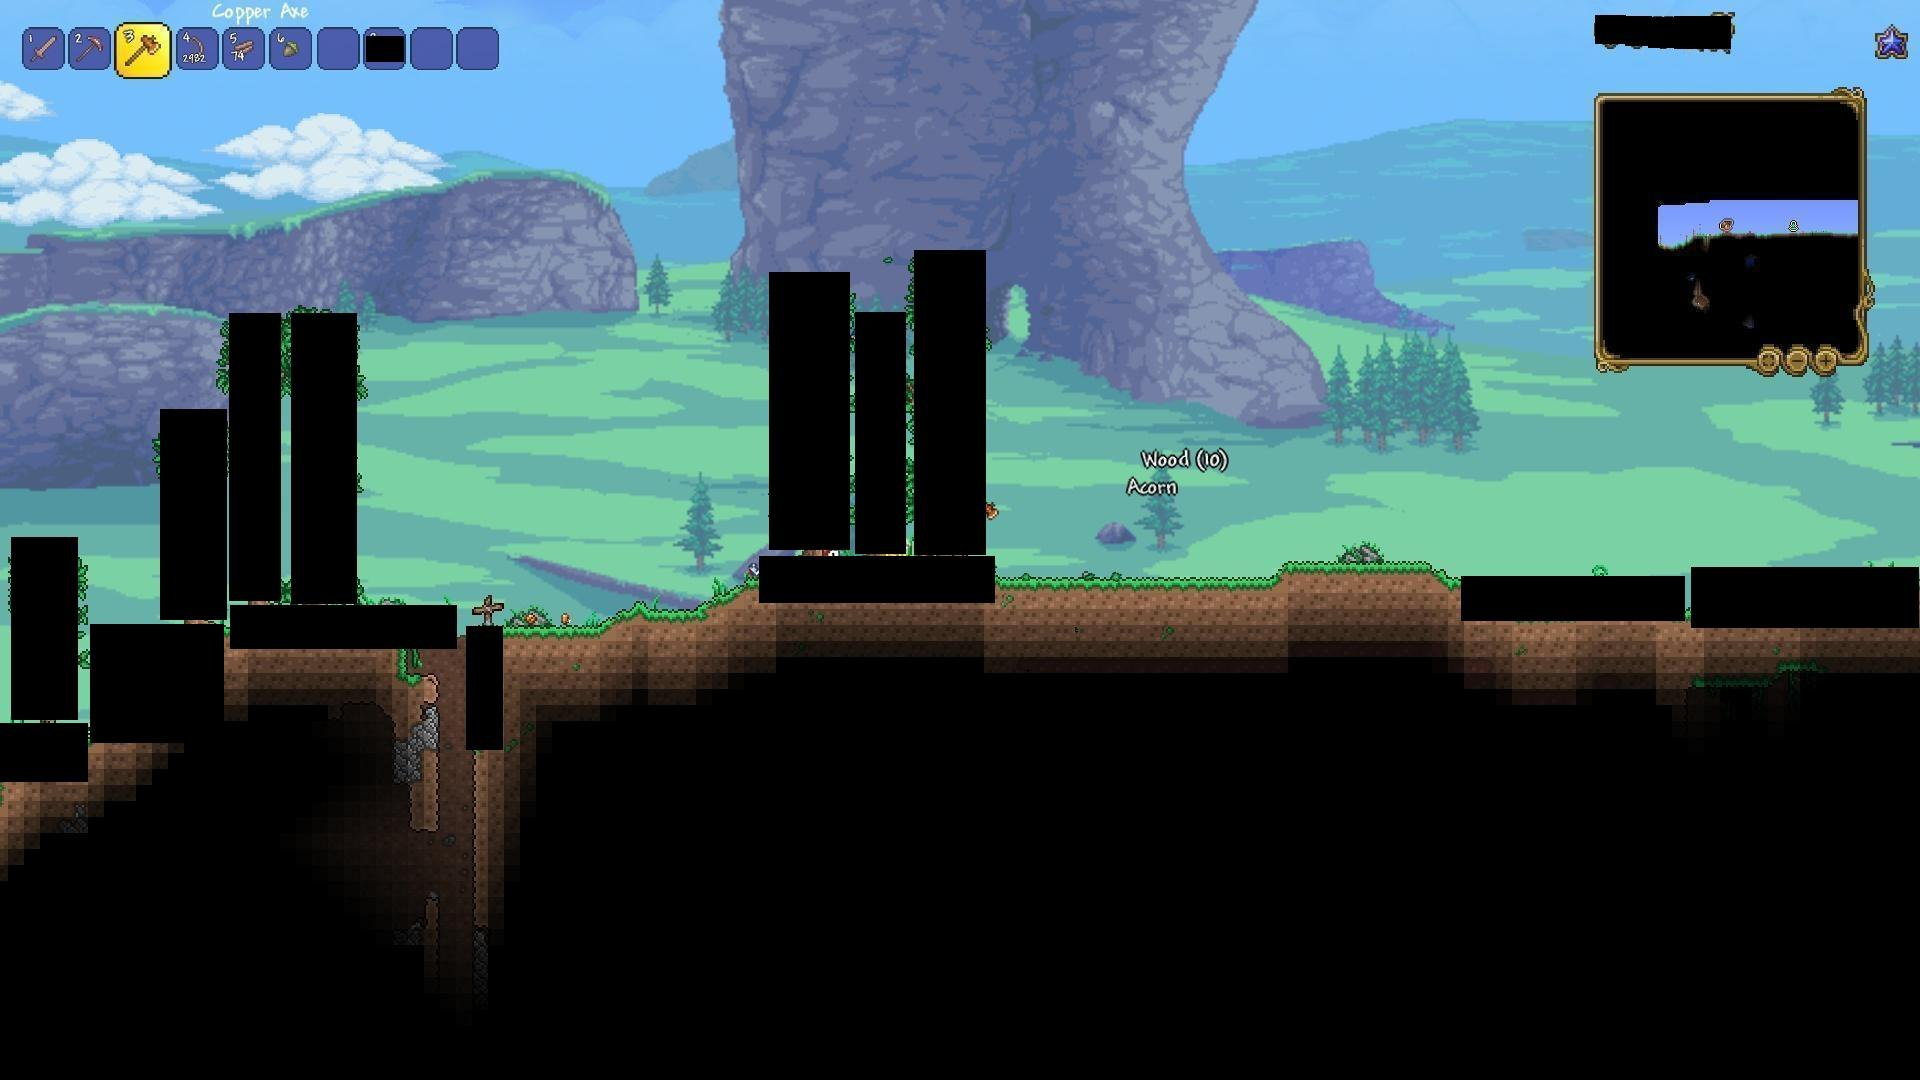dirt: (1001, 559, 1458, 611), (510, 585, 752, 646)
wood: (229, 32, 255, 65)
